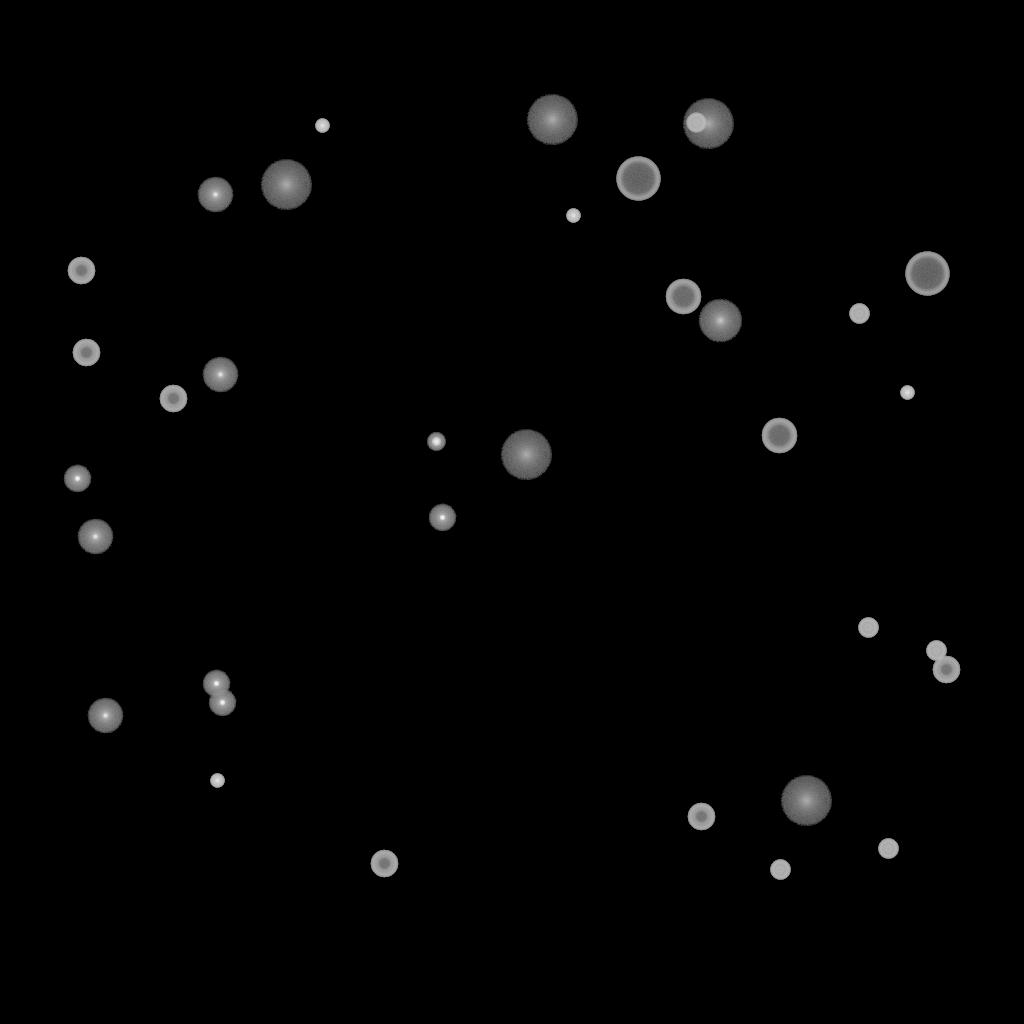depth:-10: (208, 689, 236, 717), (202, 670, 230, 698), (63, 465, 91, 493), (428, 504, 456, 532)
depth:-20: (427, 433, 445, 451)
depth:-30: (210, 774, 224, 788), (315, 119, 329, 133), (566, 209, 580, 223), (900, 386, 914, 400)
depth:-40: (770, 860, 790, 880), (858, 618, 878, 638), (926, 641, 946, 661), (878, 839, 898, 859), (849, 304, 869, 324), (686, 113, 706, 133)
depth:-50: (159, 385, 187, 413), (687, 803, 715, 831), (370, 850, 398, 878), (72, 339, 100, 367), (932, 656, 960, 684), (67, 257, 95, 285)
depth:-60: (761, 418, 797, 454), (665, 279, 701, 315)
depth:-70: (905, 252, 949, 296), (616, 157, 660, 201)
depth:0: (202, 357, 238, 393), (197, 177, 233, 213), (77, 519, 113, 555), (87, 698, 123, 734)
depth:10: (698, 299, 742, 343)
depth:20: (780, 776, 832, 826), (526, 95, 578, 145), (260, 160, 312, 210), (682, 99, 734, 149), (500, 430, 552, 480)
